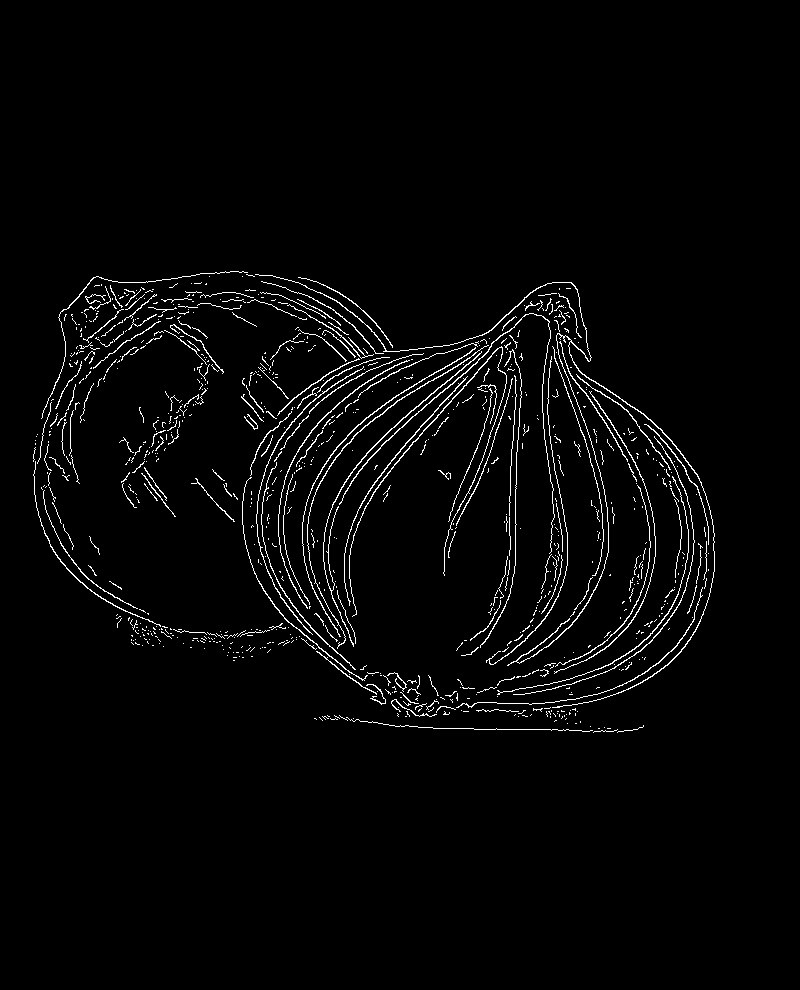red_onion: (263, 250, 721, 762), (21, 253, 388, 657)
